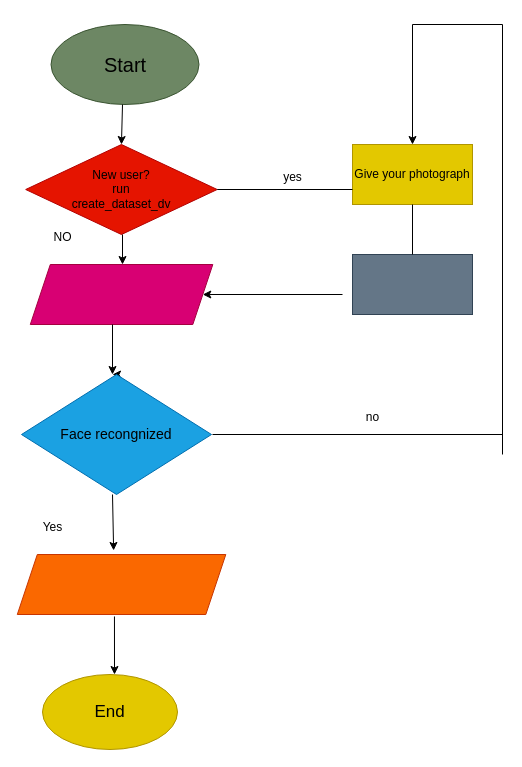
Image size: 522x767. Some labels were removed from this diagram. Each missing label, with the centre of its shape:
"recongnize the face run face recongnize.py" belongs at pixel 121 294.
"store the face data in folder on your name" belongs at pixel 412 284.
"stored in csv file with registration number & date time of entry" belongs at pixel 121 584.
